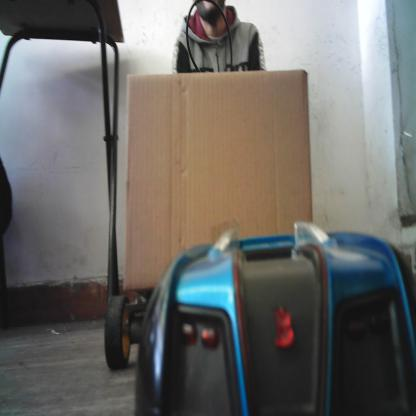LeadTruck: (104, 71, 319, 376)
